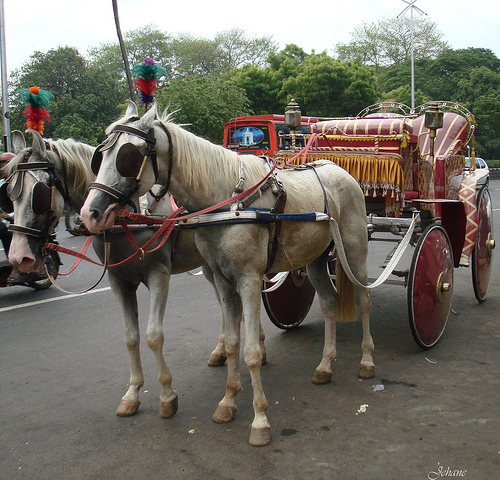horse: (77, 110, 383, 450), (2, 123, 206, 421)
